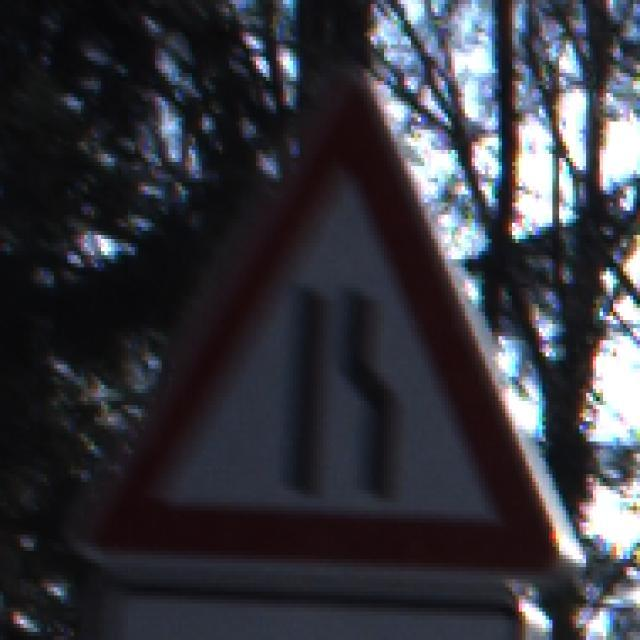narrow road ahead: (73, 64, 583, 577)
